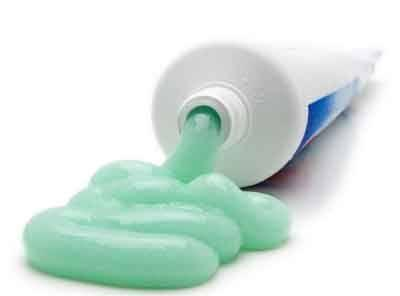toothpaste: (136, 5, 389, 187)
